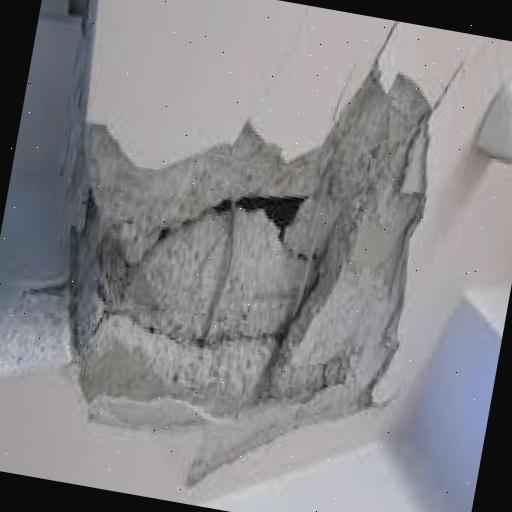spalling: (73, 69, 427, 423)
